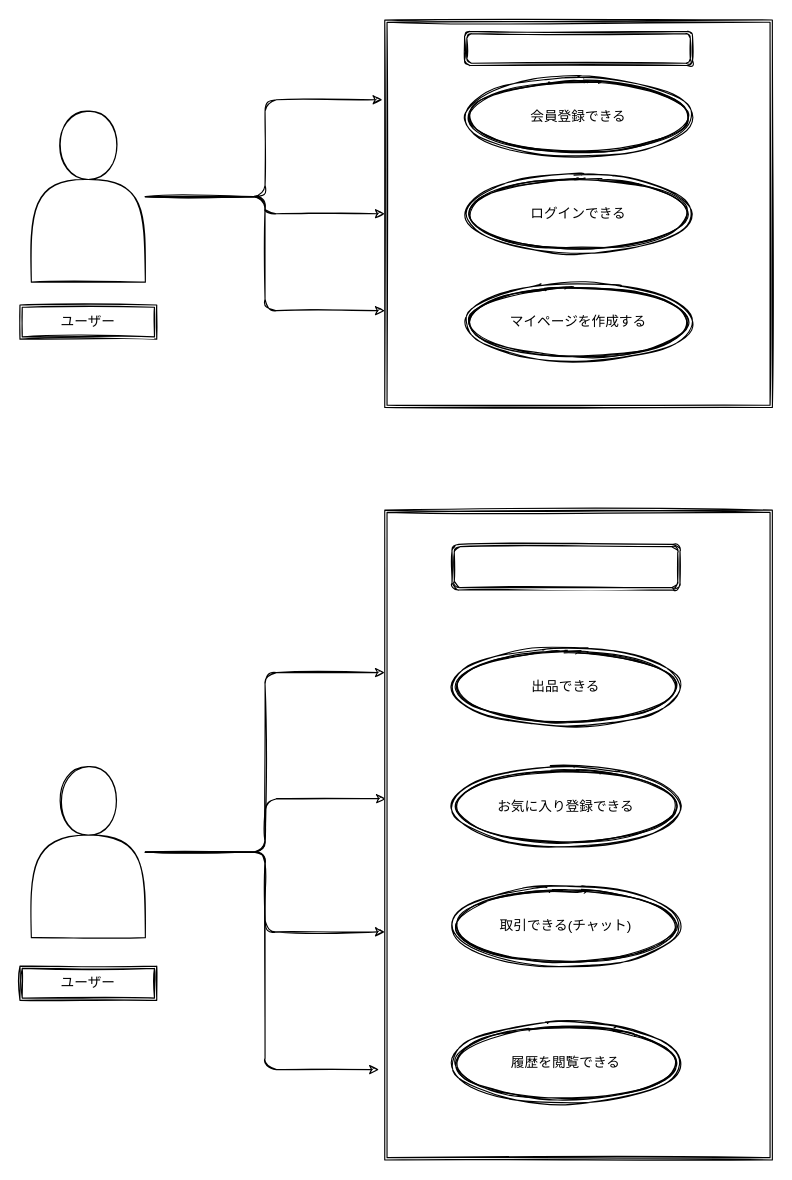
This 792x1180 diagram has some shape labels left out. Here are the shapes that lost their labels. From the top down, the centre of each, then its label:
At (578,48): "会員登録".
At (565,566): "登録後のできる事".
